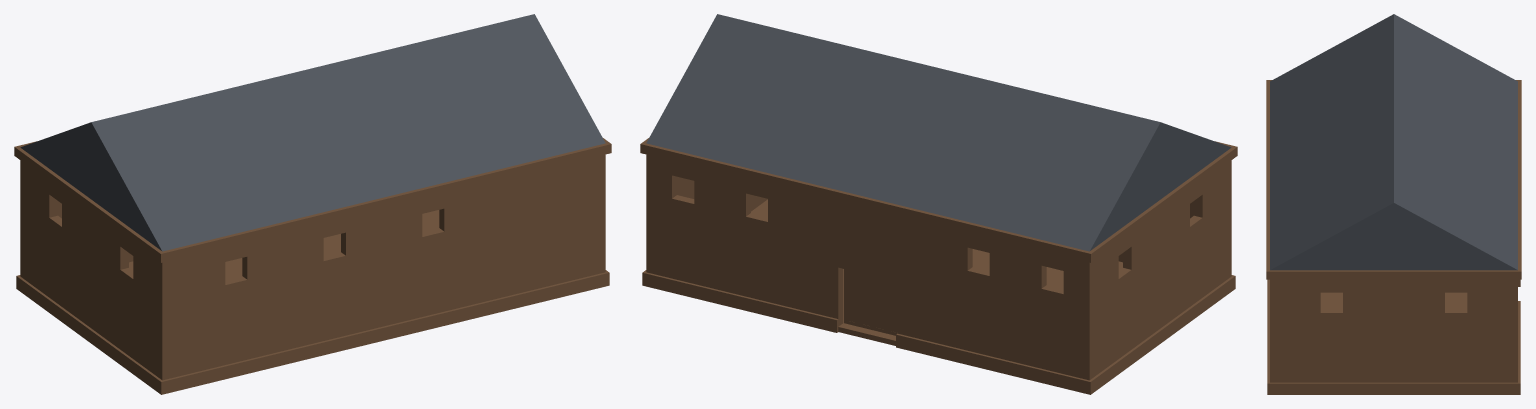
3 renders of one model, left to right at view 1: azimuth 30°, elevation 25°; view 2: azimuth 150°, elevation 25°; view 3: azimuth 270°, elevation 25°, orthographic. The views are drawn at different scales.
Visible parts, largest first — view 1: roof_slate, body_timber, trim_timber; view 2: roof_slate, body_timber, trim_timber, door_timber; view 3: roof_slate, body_timber, trim_timber.
Boxes of the visible parts, bbox=[...] form: roof_slate: bbox=[20, 14, 605, 251]; body_timber: bbox=[20, 154, 605, 380]; trim_timber: bbox=[14, 138, 611, 394]; roof_slate: bbox=[646, 14, 1231, 251]; body_timber: bbox=[646, 154, 1231, 380]; trim_timber: bbox=[640, 138, 1237, 394]; door_timber: bbox=[844, 269, 897, 335]; roof_slate: bbox=[1270, 14, 1517, 270]; body_timber: bbox=[1270, 279, 1517, 382]; trim_timber: bbox=[1266, 80, 1521, 394].
Size of what is drawn, in the model's own units: 18.3 by 8.5 by 10.3.
